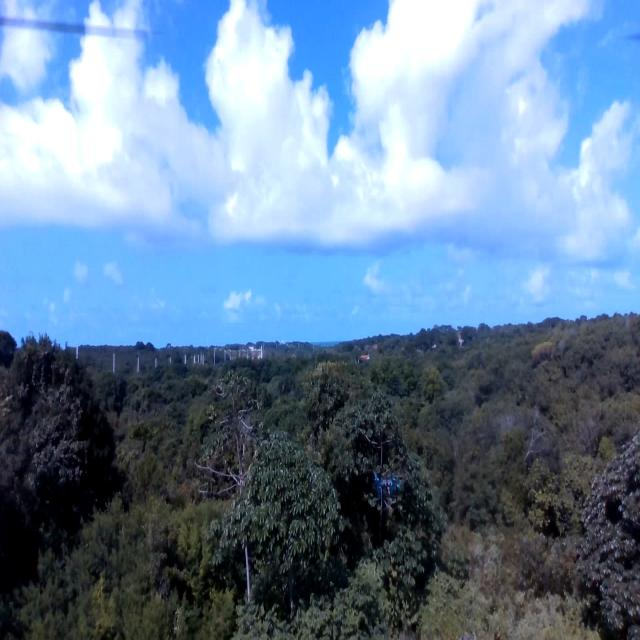-uav-: (353, 455, 411, 526)
